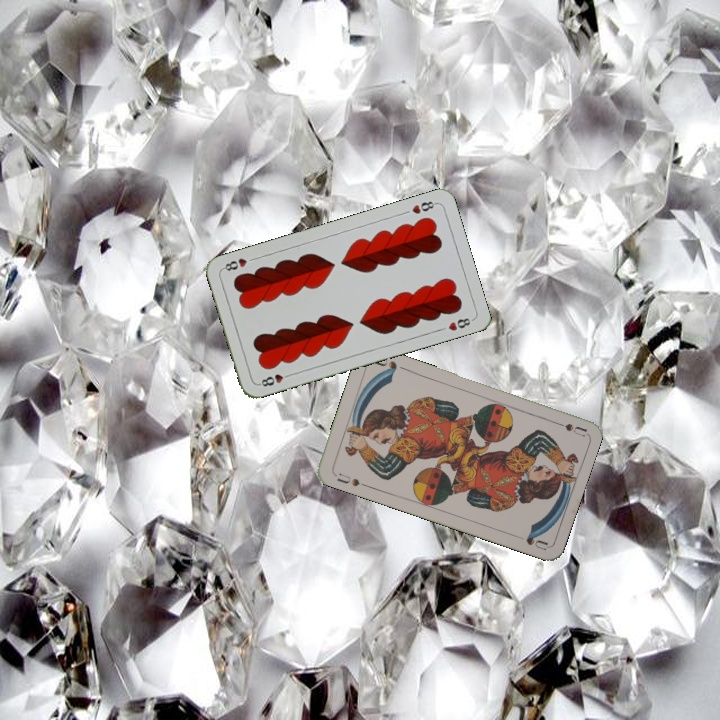H8: (255, 369, 294, 389), (408, 197, 439, 217)
SU: (548, 417, 588, 439), (333, 469, 370, 489)
